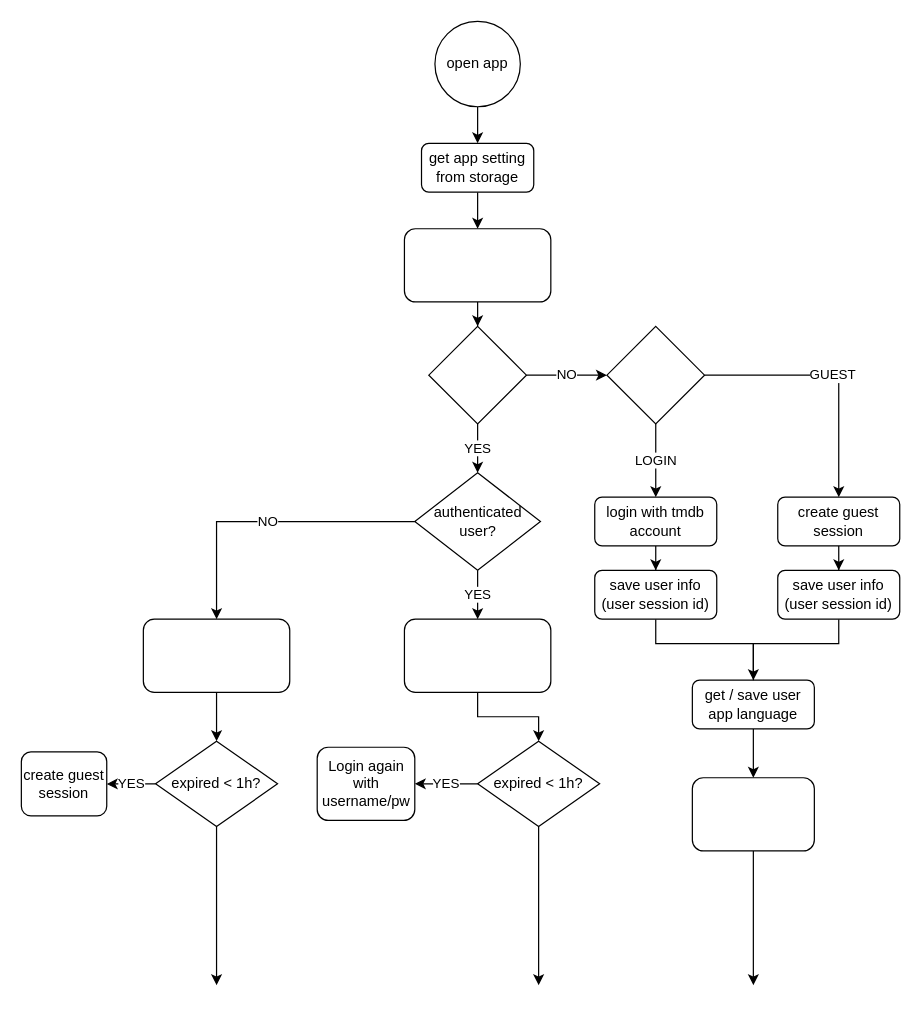
Image size: 921x1016. Some labels were removed from this diagram. The centre of each missing label's shape, as x and y in pixels:
get / save user provider countries default: (x=752, y=814)
get and save config/ genres/ countries to storages: (x=477, y=265)
Get authenticated user session id: (x=477, y=655)
Get guest user session id: (x=216, y=655)
isLoggedIn?: (x=477, y=374)
login tmdb / guest ?: (x=655, y=374)
